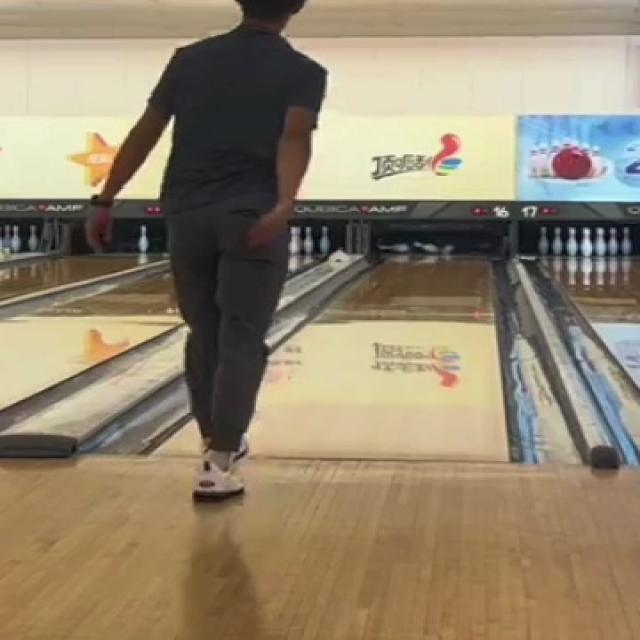alley: (251, 262, 507, 460)
bottle: (377, 228, 501, 255)
